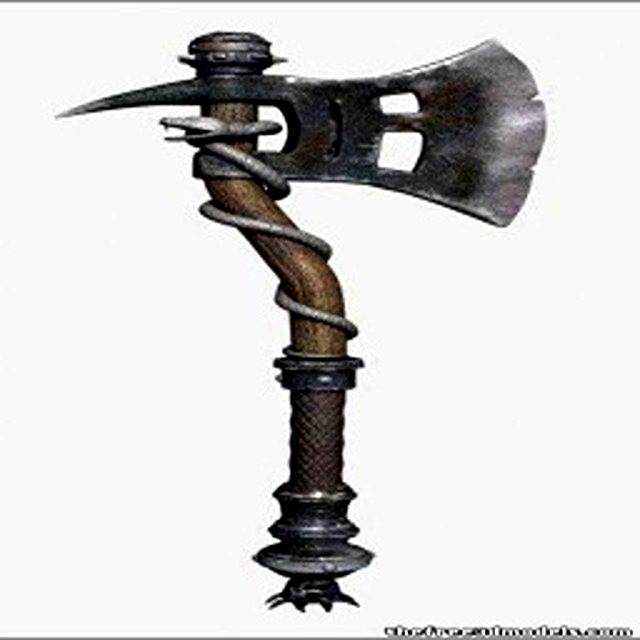ax: (45, 18, 560, 619)
